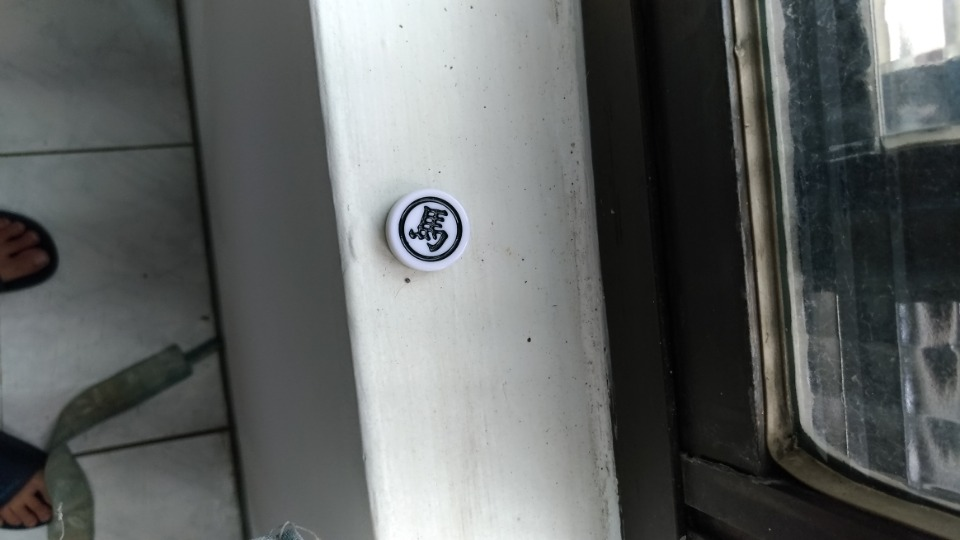b-knight: (385, 179, 474, 288)
